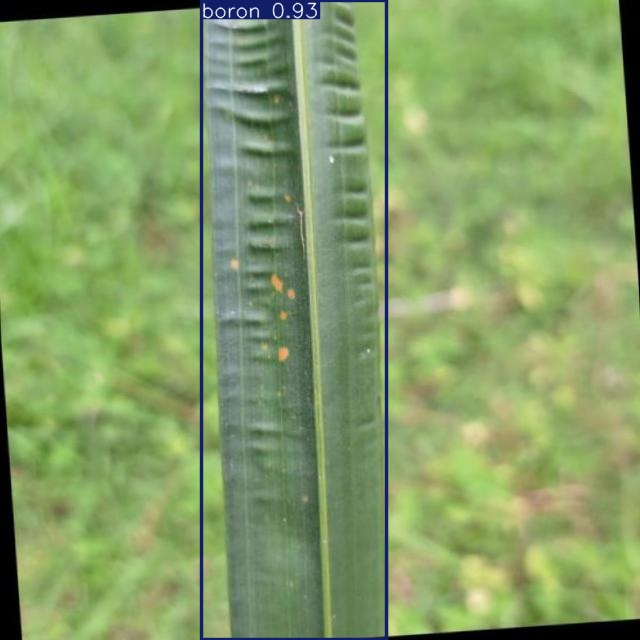nitrogen: (202, 1, 387, 640)
